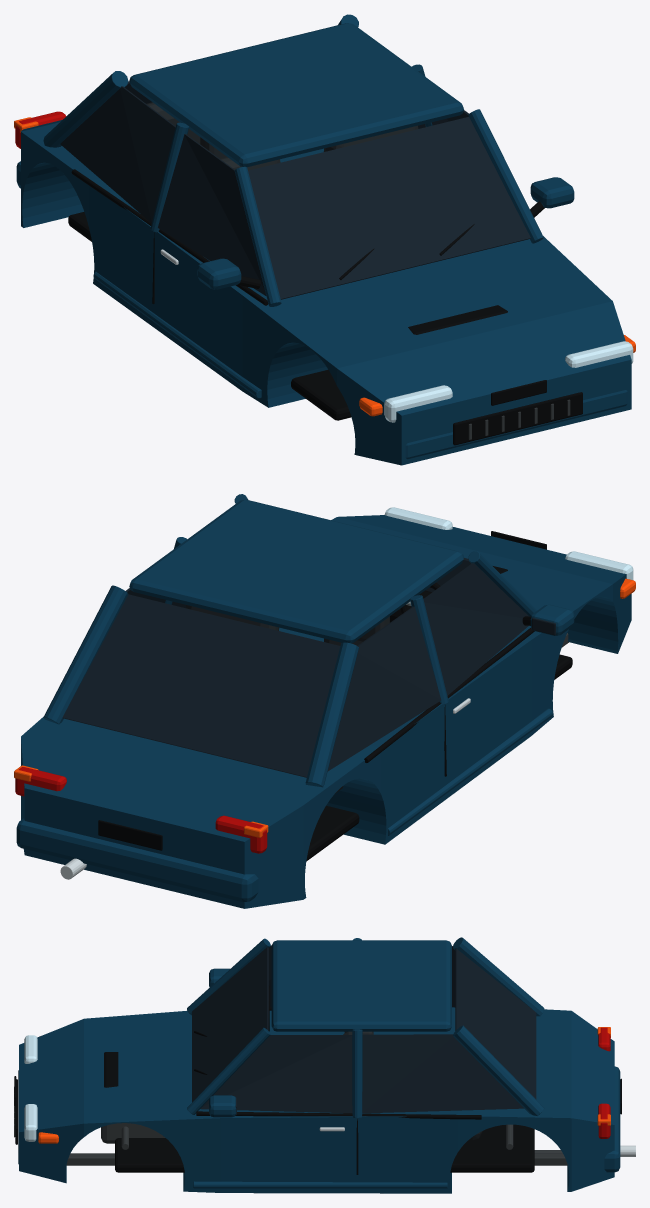
Rendered from AsterBody.obj.
3 renders of one model, top to bottom at view 1: azimuth 30°, elevation 25°; view 2: azimuth 150°, elevation 25°; view 3: azimuth 270°, elevation 25°, orthographic. The views are drawn at different scales.
Visible parts, largest first — view 1: AsterBody; view 2: AsterBody; view 3: AsterBody.
Part boxes in pixels (x1,y1,x2,y2): AsterBody: (14,14,635,465); AsterBody: (14,494,635,908); AsterBody: (14,937,635,1193).
Size of the model in its own units: 2.22 by 1.17 by 4.21.
